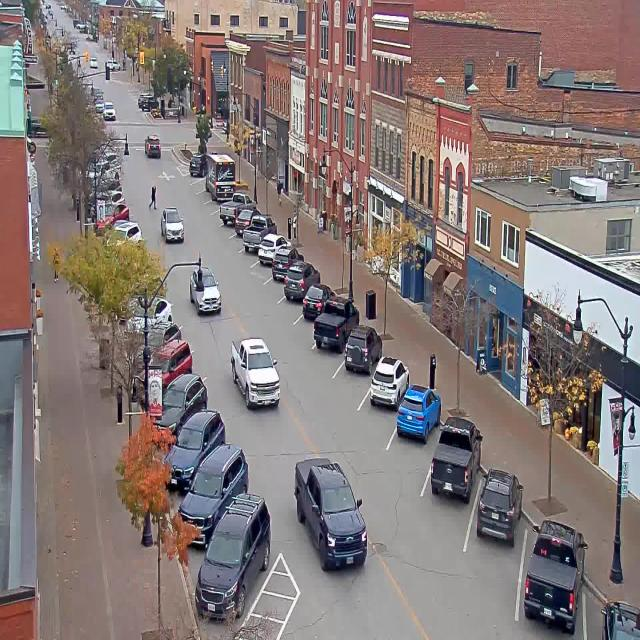occupied: (194, 491, 271, 622), (176, 442, 248, 548), (523, 518, 588, 634), (162, 408, 226, 491), (430, 416, 482, 503), (153, 372, 208, 440), (476, 467, 523, 546), (309, 290, 359, 352), (396, 382, 441, 442), (369, 354, 410, 410), (344, 324, 382, 374), (595, 599, 639, 640), (155, 339, 202, 374), (204, 153, 239, 199), (283, 265, 320, 296), (242, 216, 275, 248), (304, 285, 332, 320), (271, 248, 305, 275), (259, 233, 287, 264), (220, 194, 256, 218), (188, 151, 210, 179), (235, 208, 257, 235)
